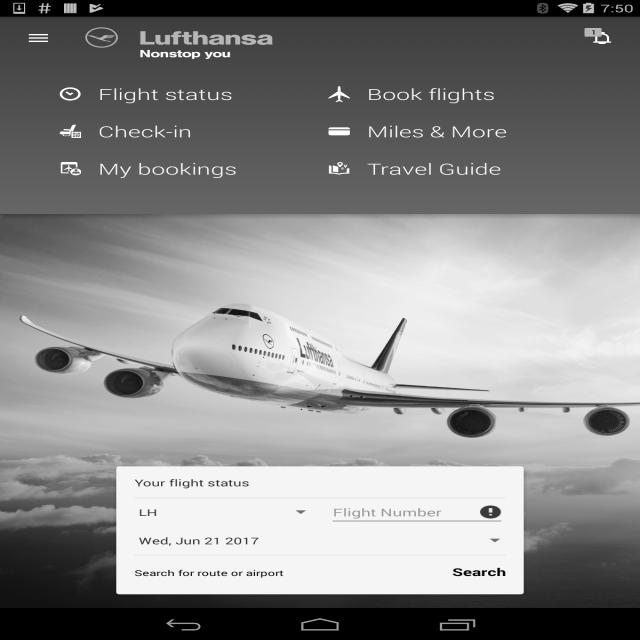EditText: (328, 498, 506, 527)
ImageButton: (9, 17, 68, 59)
ImageView: (0, 214, 640, 608), (85, 27, 272, 59)
Spinner: (134, 526, 506, 554), (134, 498, 312, 526)
TextView: (134, 526, 488, 554), (300, 556, 522, 588), (60, 118, 311, 145), (329, 118, 580, 145), (60, 155, 311, 182), (329, 155, 580, 182), (60, 81, 311, 107), (329, 81, 580, 107), (117, 558, 301, 588), (134, 498, 294, 526), (572, 22, 631, 54), (135, 476, 250, 489)
